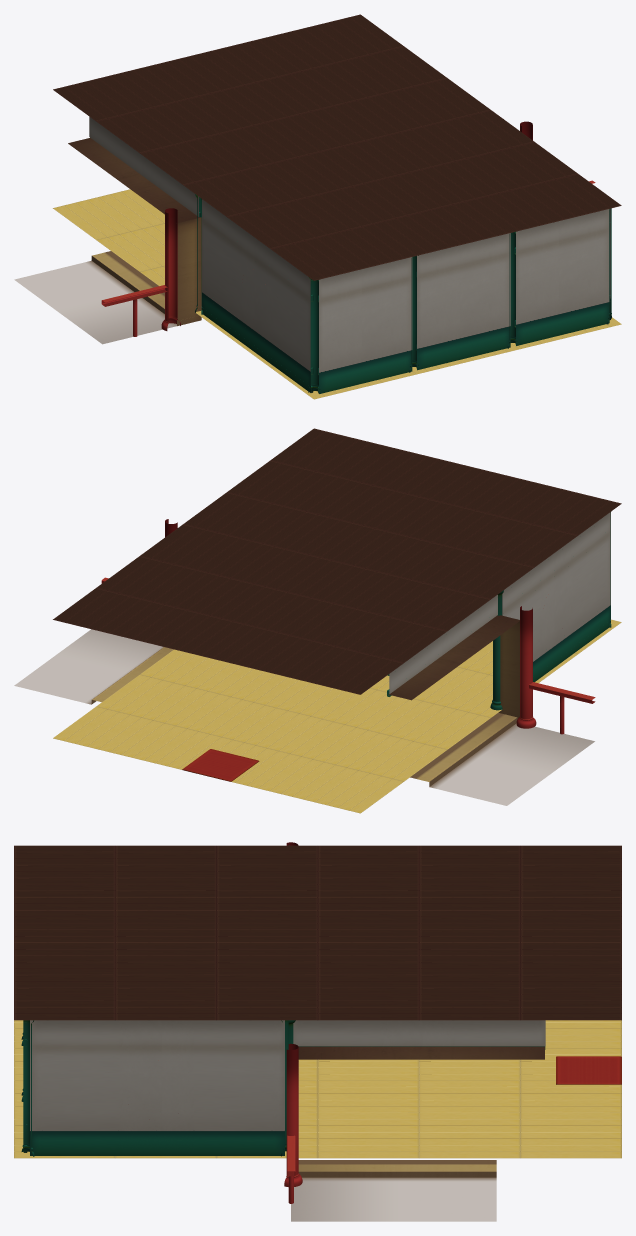
Rendered from difu_fangzi.FBX.
3 renders of one model, top to bottom at view 1: azimuth 30°, elevation 25°; view 2: azimuth 150°, elevation 25°; view 3: azimuth 270°, elevation 25°, orthographic. The views are drawn at different scales.
Visible parts, largest first — view 1: difu_fangzi; view 2: difu_fangzi; view 3: difu_fangzi.
Part boxes in pixels (x1,y1,x2,y2): difu_fangzi: (14,14,621,399); difu_fangzi: (14,428,621,813); difu_fangzi: (14,842,621,1221).
Size of the model in its own units: 9004 by 2238 by 8271.
